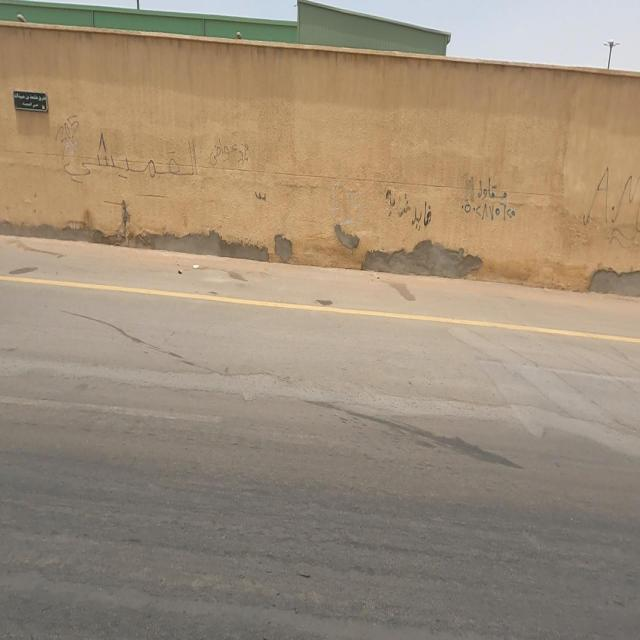Graffiti: (57, 116, 198, 186), (584, 166, 640, 246), (462, 175, 516, 223), (385, 190, 434, 231), (211, 137, 250, 171), (256, 189, 269, 203)
